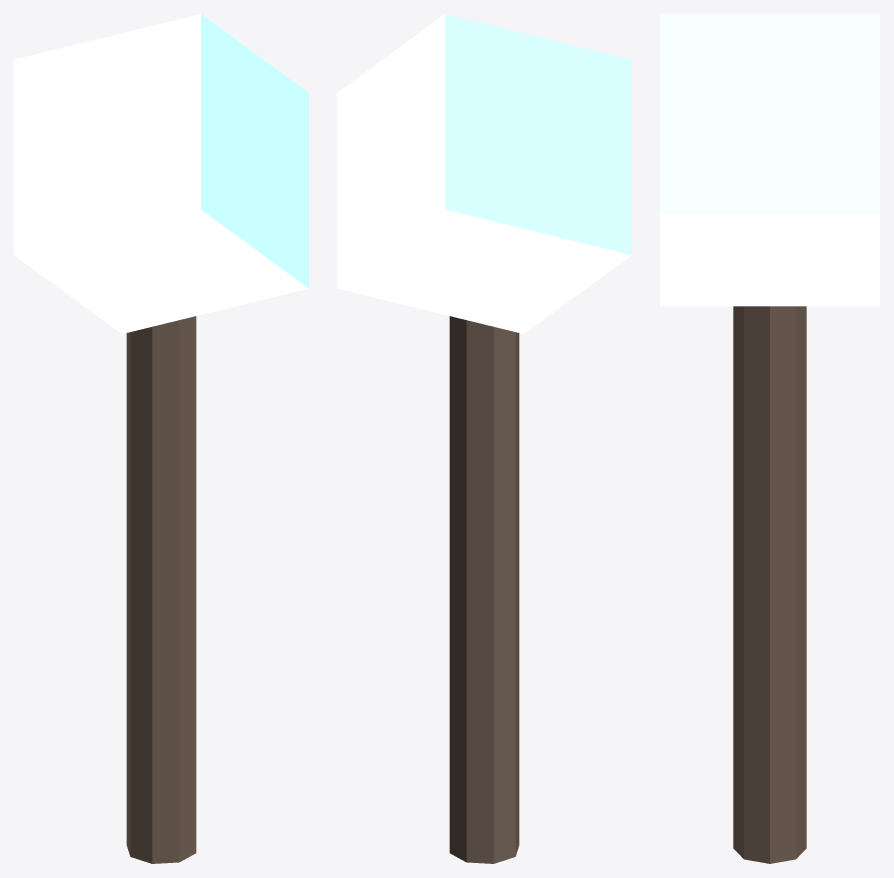
Rendered from kiosk.glb.
The picture shows the model from 3 angles, left to right: view 1: azimuth 30°, elevation 25°; view 2: azimuth 150°, elevation 25°; view 3: azimuth 270°, elevation 25°; orthographic projection.
Parts seen in each view (by area): view 1: cube, post; view 2: cube, post; view 3: cube, post.
Part boxes in pixels (left/top/right/bottom): cube: left=14, top=14, right=308, bottom=333; post: left=126, top=316, right=196, bottom=863; cube: left=337, top=14, right=631, bottom=333; post: left=449, top=316, right=519, bottom=863; cube: left=660, top=14, right=879, bottom=306; post: left=733, top=306, right=806, bottom=863.
Size of what is drawn, in the model's own units: 0.42 by 1.66 by 0.42.
